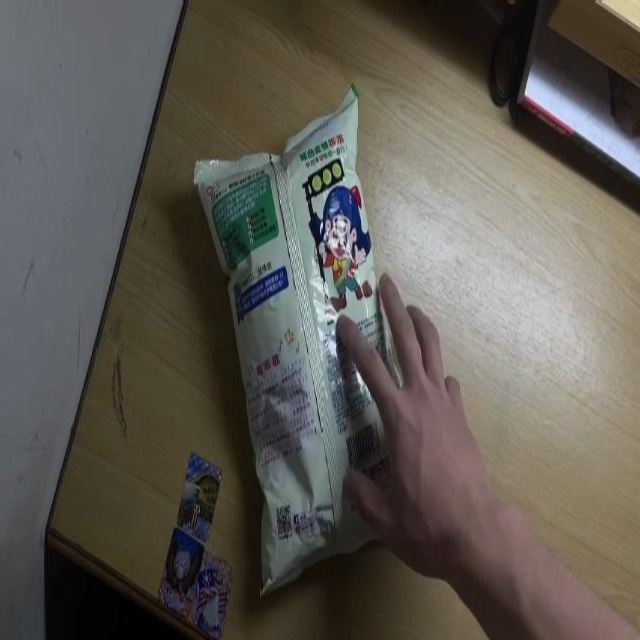Good-Luck: (192, 82, 417, 592)
